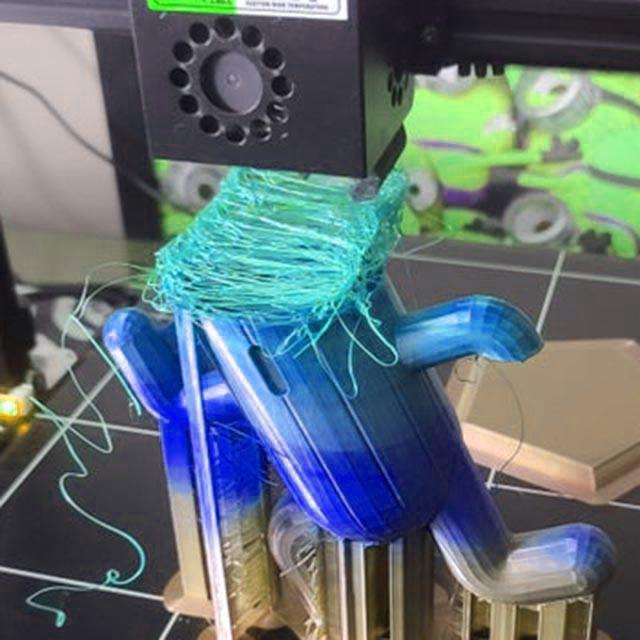Spaghetti: (138, 164, 410, 398), (26, 260, 146, 628)
